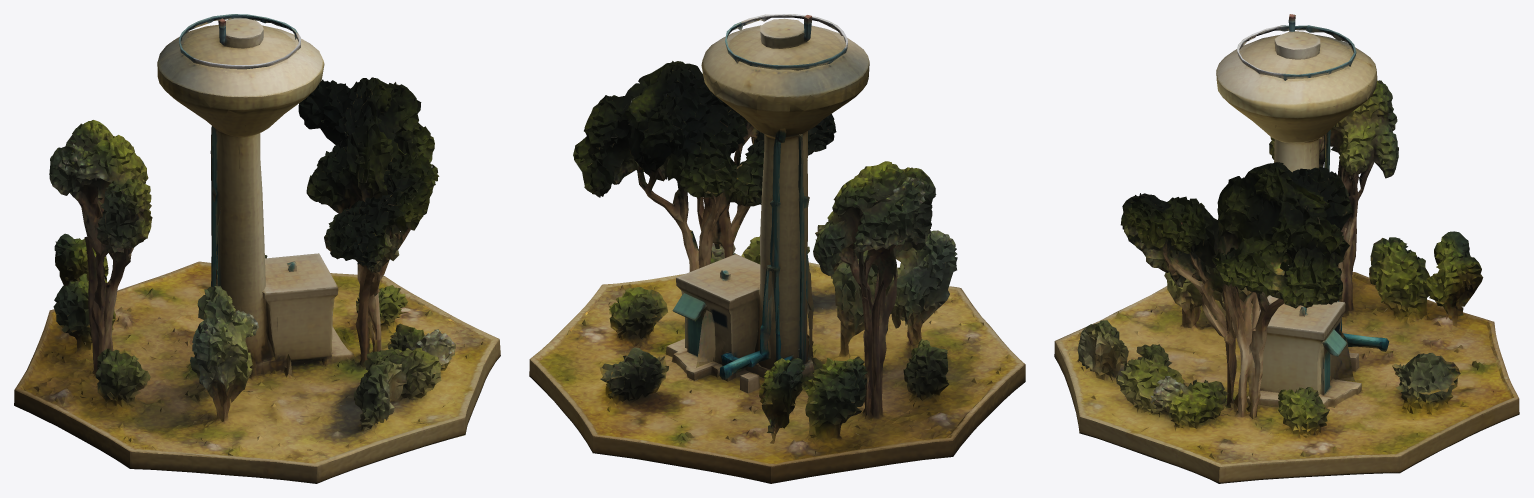
Rendered from imp_water_tower.glb.
3 renders of one model, left to right at view 1: azimuth 30°, elevation 25°; view 2: azimuth 150°, elevation 25°; view 3: azimuth 270°, elevation 25°, orthographic. The views are drawn at different scales.
Visible parts, largest first — view 1: geometry_0; view 2: geometry_0; view 3: geometry_0.
Boxes of the visible parts, x1,y1,x2,y2 form: geometry_0: (14, 14, 500, 483); geometry_0: (529, 14, 1025, 483); geometry_0: (1054, 14, 1519, 483).
Bounding box in the file's own units: 0.9853 × 0.8305 × 0.9852.
Materials: 1 (1 with a texture image).
